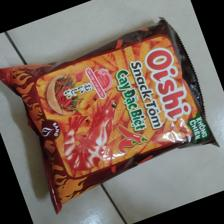Oishi_Cay: (1, 17, 221, 217)
